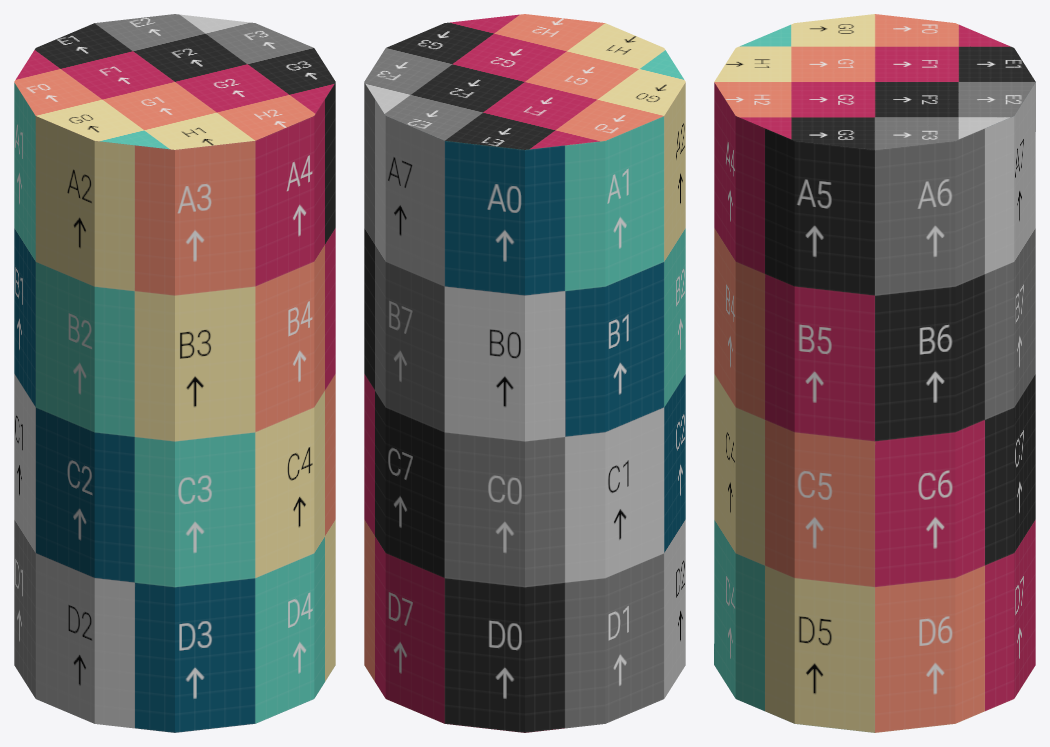
File: ArmN.fbx
The picture shows the model from 3 angles, left to right: view 1: azimuth 30°, elevation 25°; view 2: azimuth 150°, elevation 25°; view 3: azimuth 270°, elevation 25°; orthographic projection.
Parts seen in each view (by area): view 1: Arm; view 2: Arm; view 3: Arm.
Boxes of the visible parts, box(x1,y1,x2,y2) form: Arm: box(14, 14, 335, 732); Arm: box(364, 14, 685, 732); Arm: box(714, 14, 1035, 732).
Bounding box in the file's own units: 1 × 2 × 1.
